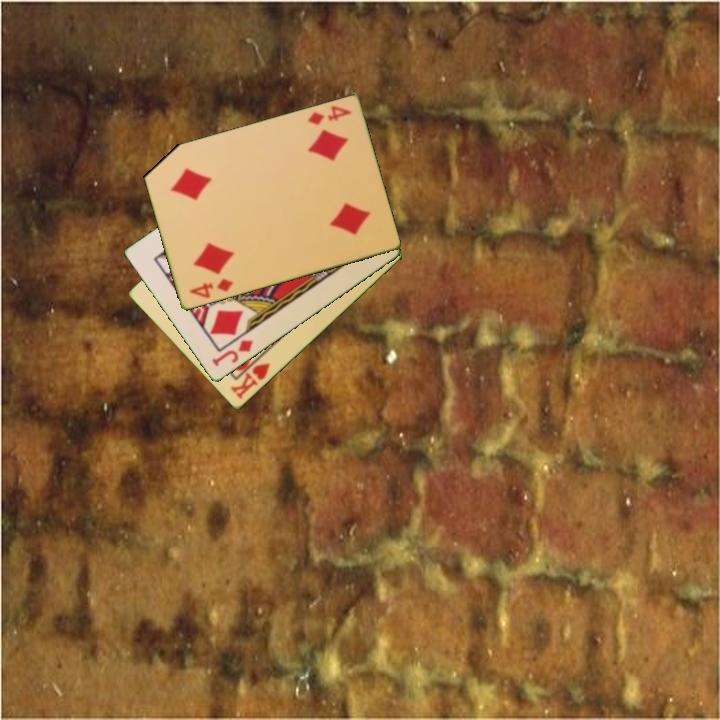4d: (186, 275, 236, 302), (304, 102, 354, 128)
Jd: (208, 337, 256, 370)
Kh: (227, 351, 273, 403)
